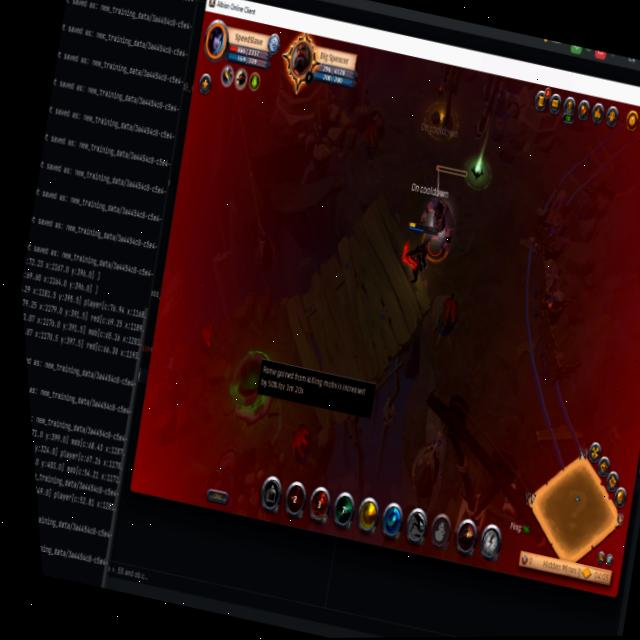ore: (403, 158, 479, 278)
red: (393, 218, 445, 291)
